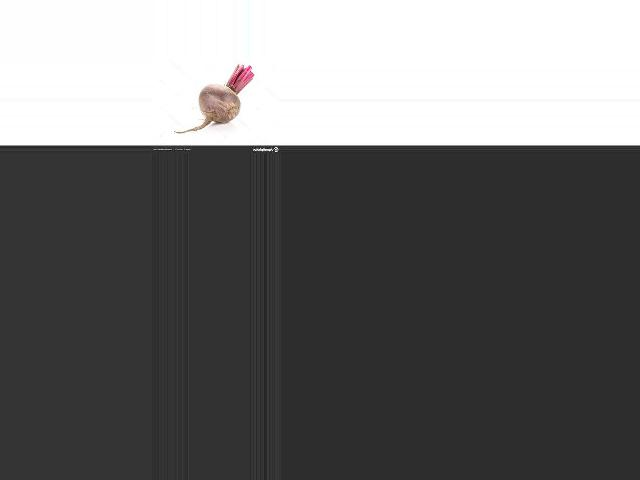beet: (173, 65, 253, 133)
